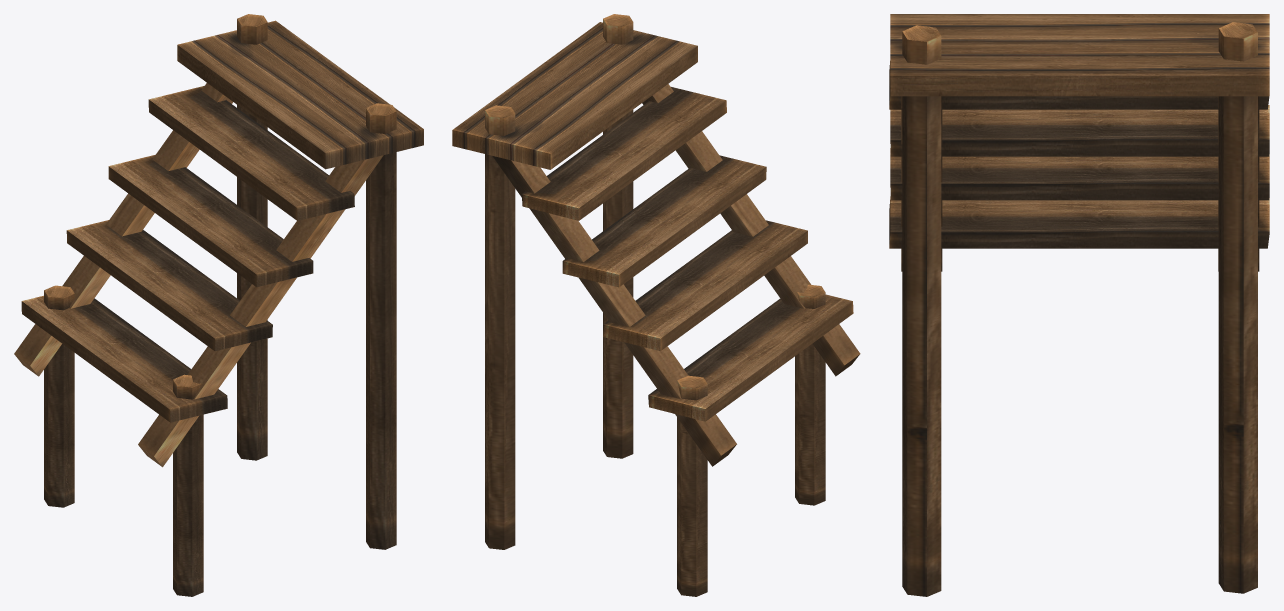
Rendered from p2_stairs2.fbx.
The picture shows the model from 3 angles, left to right: view 1: azimuth 30°, elevation 25°; view 2: azimuth 150°, elevation 25°; view 3: azimuth 270°, elevation 25°; orthographic projection. The views are drawn at different scales.
Parts seen in each view (by area): view 1: Group000Mat; view 2: Group000Mat; view 3: Group000Mat.
Part boxes in pixels (<box>): Group000Mat: <box>14,14,423,596</box>; Group000Mat: <box>452,14,860,596</box>; Group000Mat: <box>889,14,1269,596</box>.
Bounding box in the file's own units: 272 × 425 × 264.
